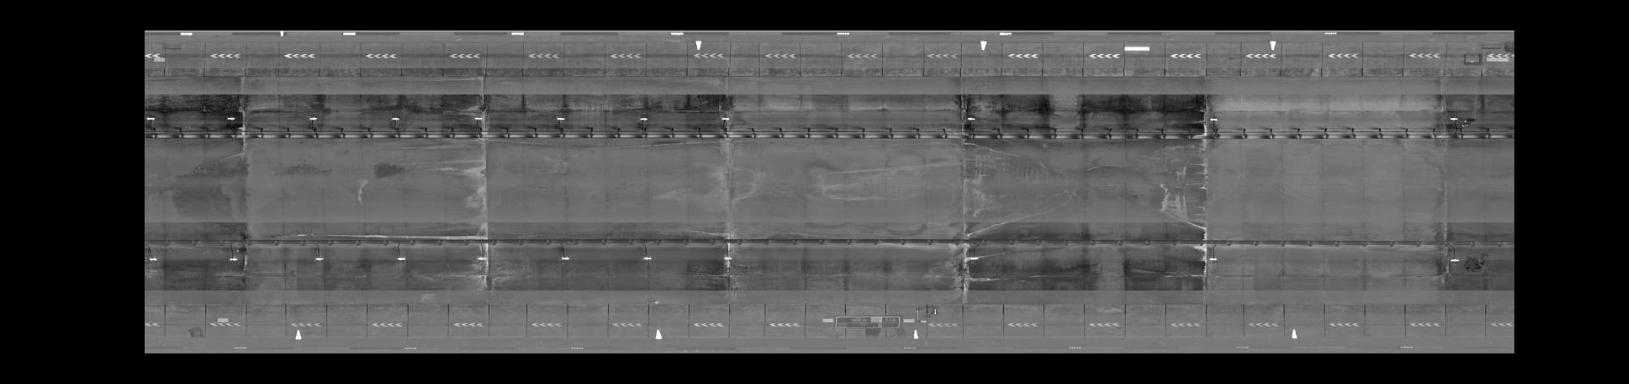light: (311, 254, 328, 265), (306, 113, 324, 124), (634, 112, 649, 124), (388, 114, 405, 124), (470, 114, 487, 124), (639, 253, 655, 264), (553, 114, 569, 124), (718, 114, 735, 124), (1204, 255, 1223, 264), (1446, 113, 1461, 124), (226, 255, 244, 264), (223, 114, 239, 124), (717, 254, 737, 262), (966, 254, 986, 262), (1447, 256, 1463, 265), (474, 255, 491, 263), (148, 254, 161, 264), (1205, 115, 1220, 124), (145, 113, 157, 124), (966, 113, 978, 124), (557, 254, 572, 262), (393, 255, 409, 262)
